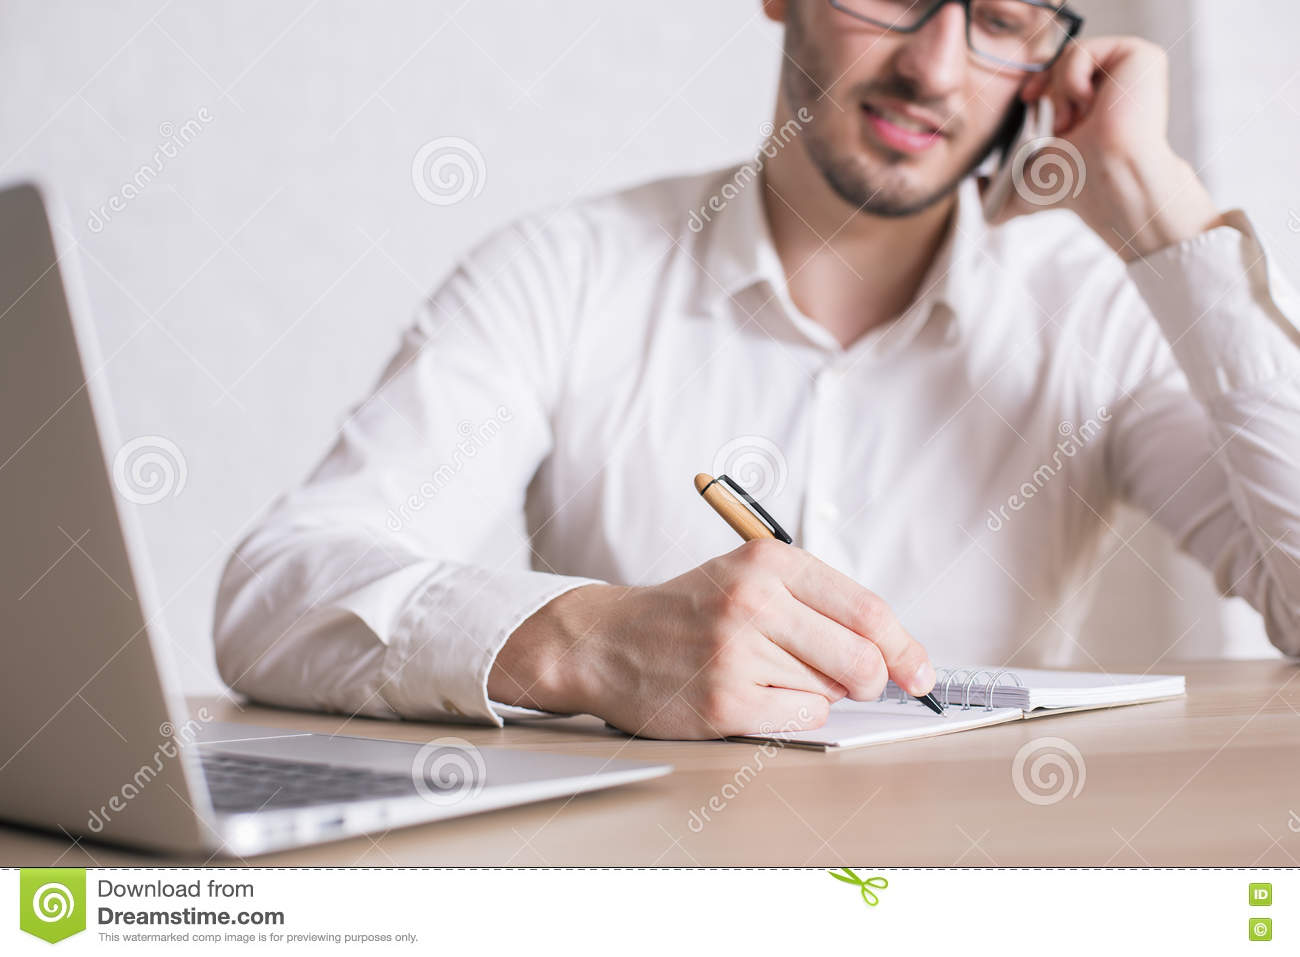phone: (983, 62, 1043, 228)
talk: (811, 1, 1192, 240)
